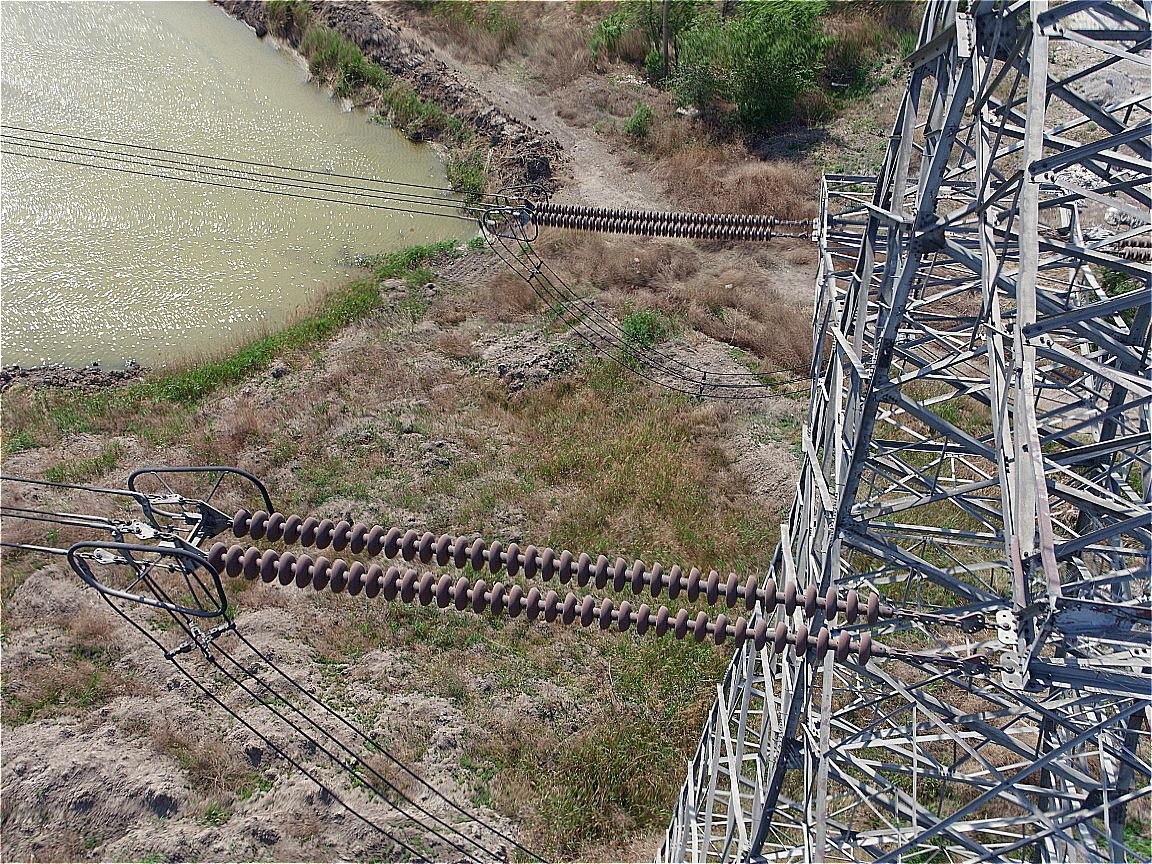insultor1: (210, 508, 882, 665)
insultor2: (530, 199, 779, 241)
